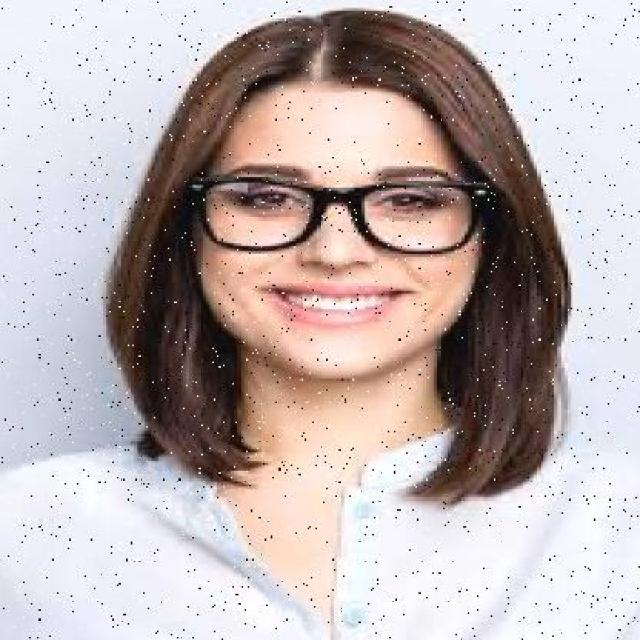glasses: (193, 169, 485, 254)
